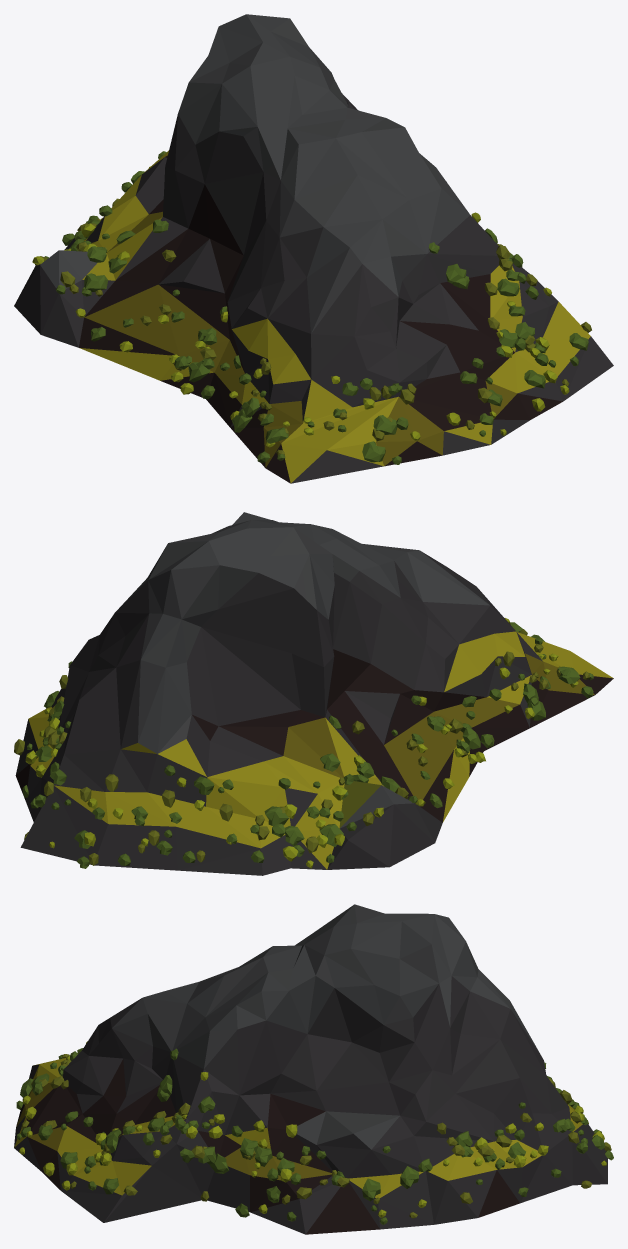
The model's file is New Tutorial Island 3.fbx.
3 renders of one model, top to bottom at view 1: azimuth 30°, elevation 25°; view 2: azimuth 150°, elevation 25°; view 3: azimuth 270°, elevation 25°, orthographic. The views are drawn at different scales.
Parts seen in each view (by area): view 1: New Rock 3; view 2: New Rock 3; view 3: New Rock 3.
Part boxes in pixels (left/top/right/bottom): New Rock 3: left=14, top=14, right=613, bottom=483; New Rock 3: left=14, top=512, right=613, bottom=875; New Rock 3: left=14, top=904, right=613, bottom=1234.
Size of the model in its own units: 4336 by 2595 by 5970.
